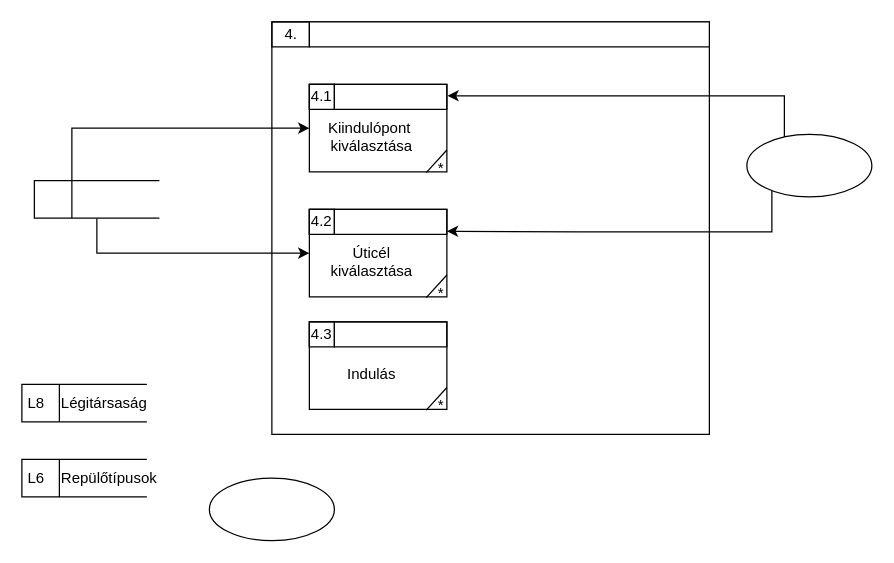
The diagram is 894 pixels wide and 563 high, and some of its shapes have lost their labels. The centre of each missing label's shape, as x and y in pixels:
"Járatok" goes at [271,509].
"L1 Menetrend" goes at [96,198].
"Utasok" goes at [809,165].
